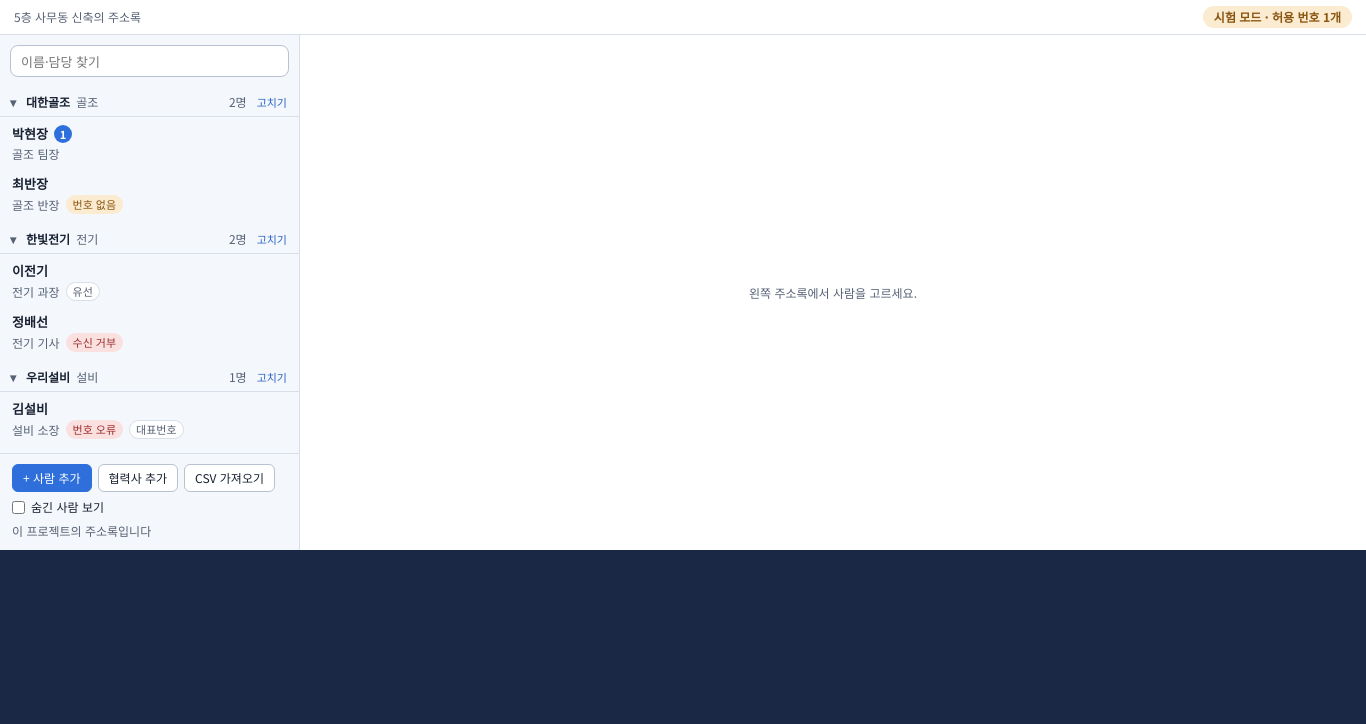
Test: a non-admin sees the level locked
The width and height of the screenshot is (1366, 724).
Step 1. Click the button "박현장 1 골조 팀장" → [30, 134], box top-left (0, 119), bottom-right (299, 169)
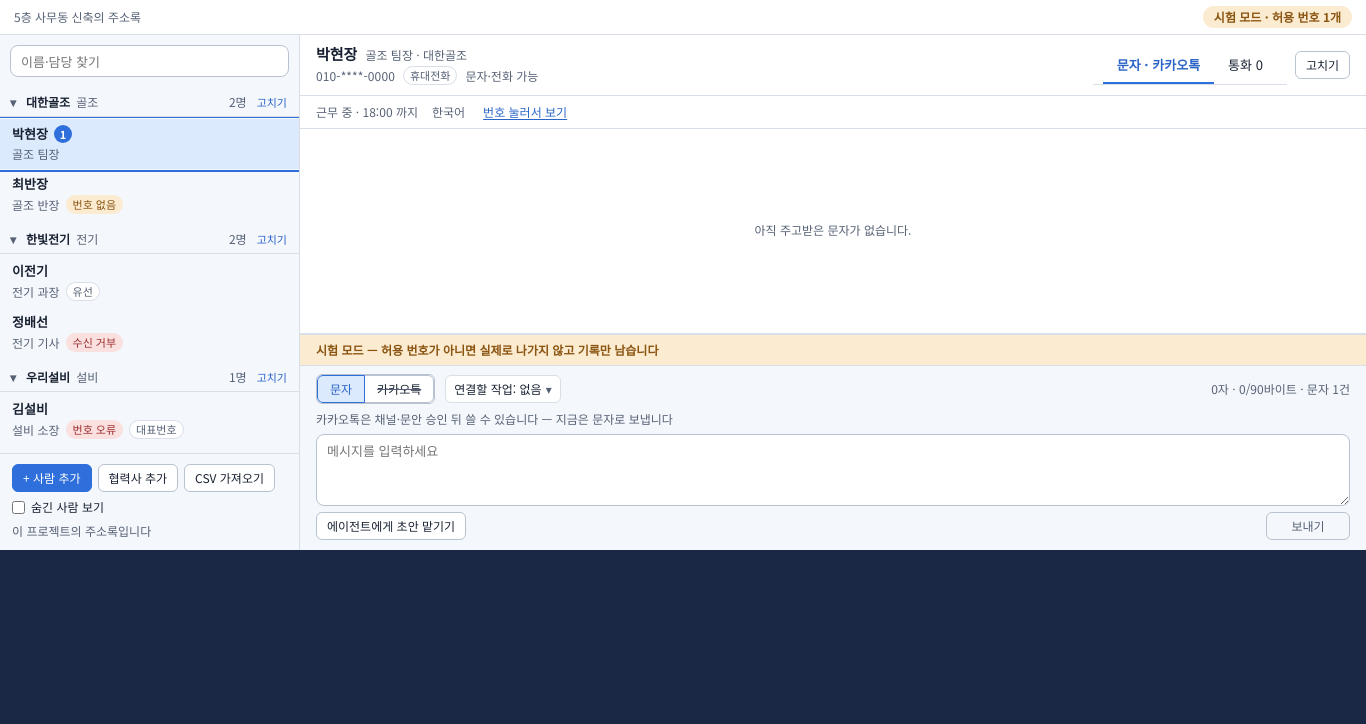
Step 2. Click the button "고치기" in the row of "문자·전화 가능" → [1322, 65], box top-left (1295, 51), bottom-right (1350, 79)
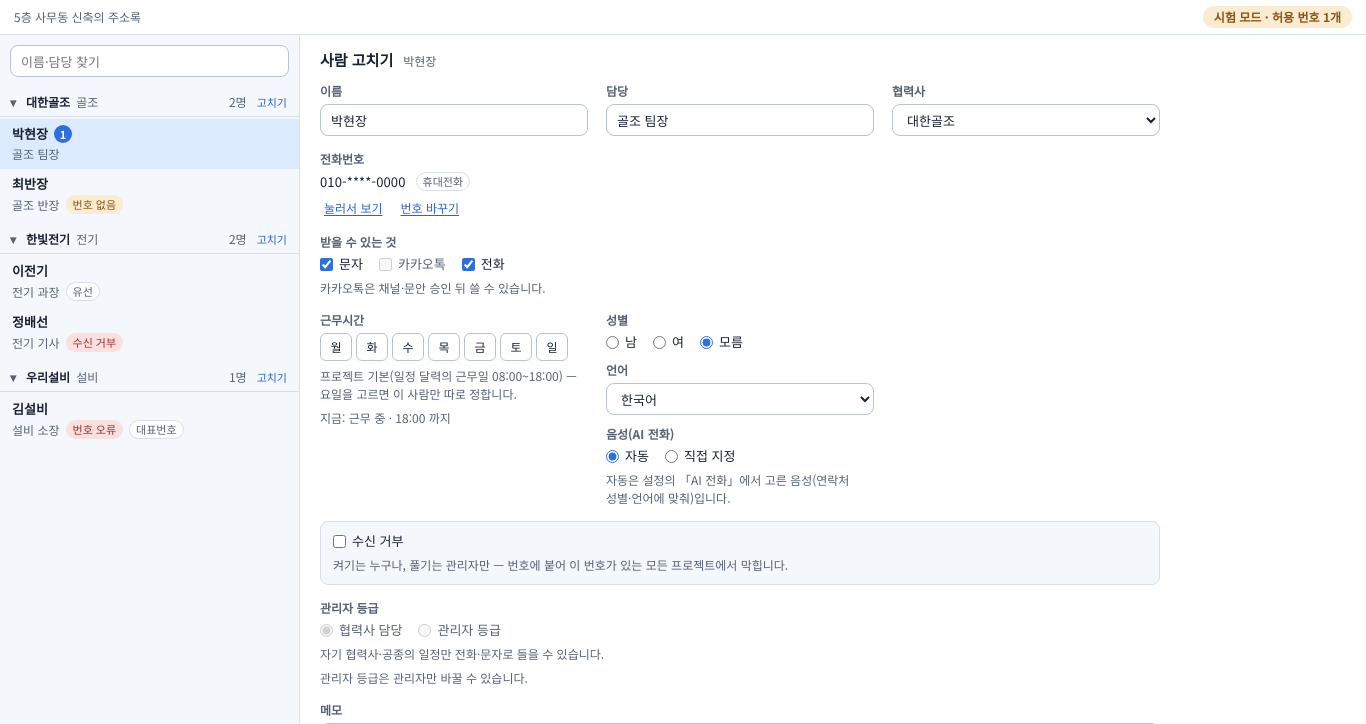
Check: the radio button labelled "협력사 담당" is disabled, box top-left (320, 624), bottom-right (333, 636)
Check: the radio button labelled "관리자 등급" is disabled, box top-left (418, 624), bottom-right (432, 636)
Check: the text "관리자 등급은 관리자만 바꿀 수 있습니다." is shown, box top-left (320, 669), bottom-right (528, 686)
